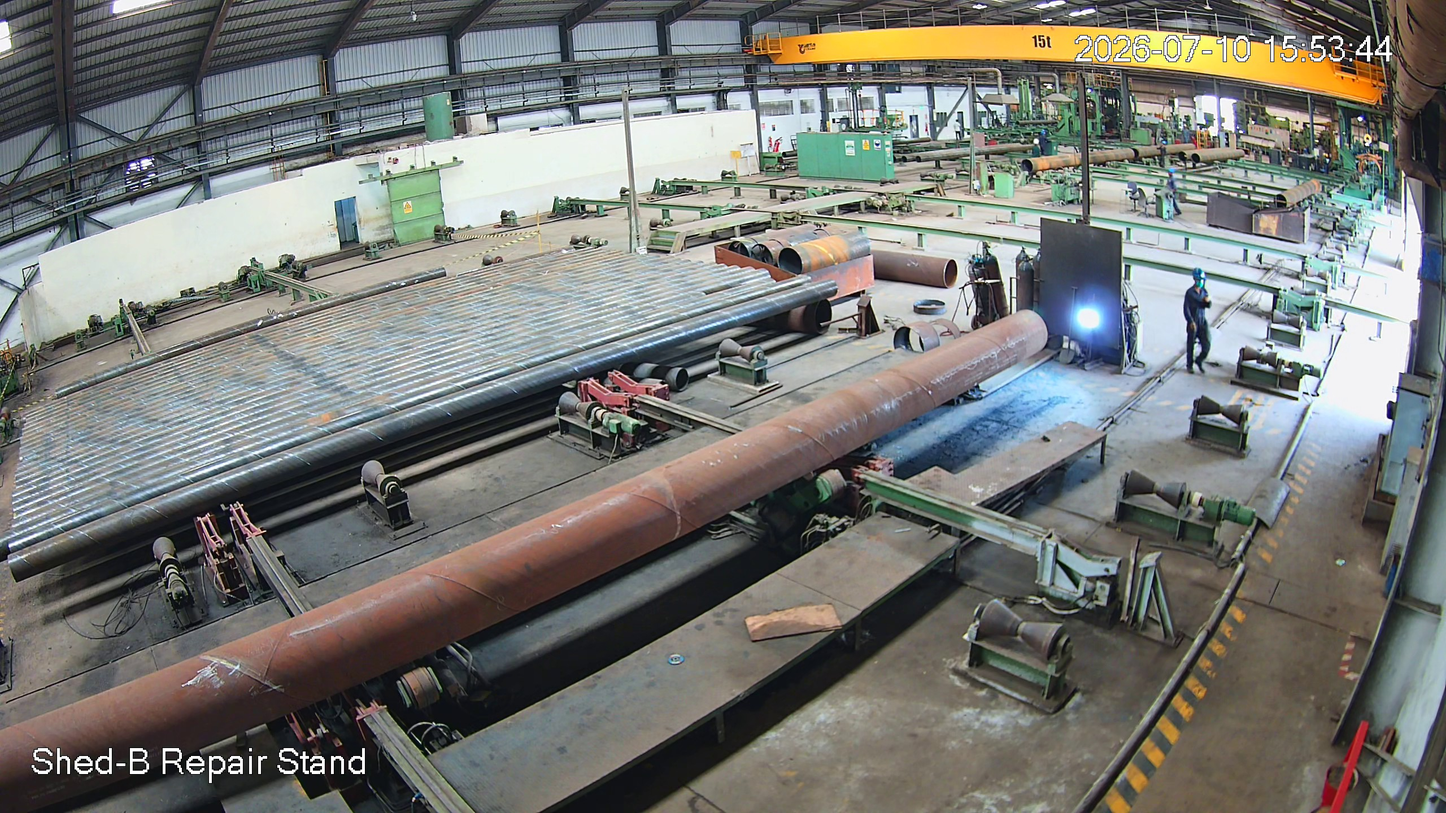Helmet: (1188, 264, 1217, 295)
Person: (1181, 267, 1214, 380)
